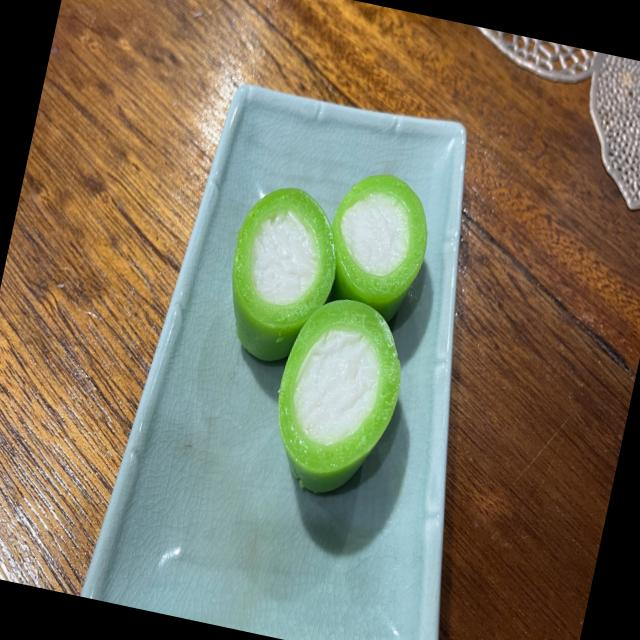nona-manis: (279, 299, 400, 494), (234, 191, 339, 364), (323, 175, 428, 323)
